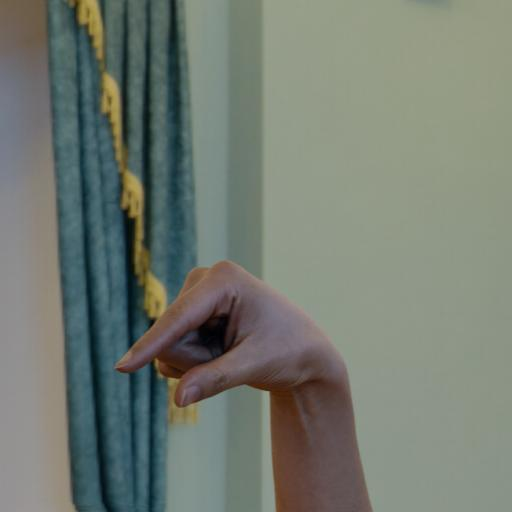Q: (94, 251, 382, 512)
